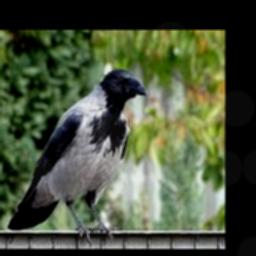Crow: (7, 68, 147, 247)
